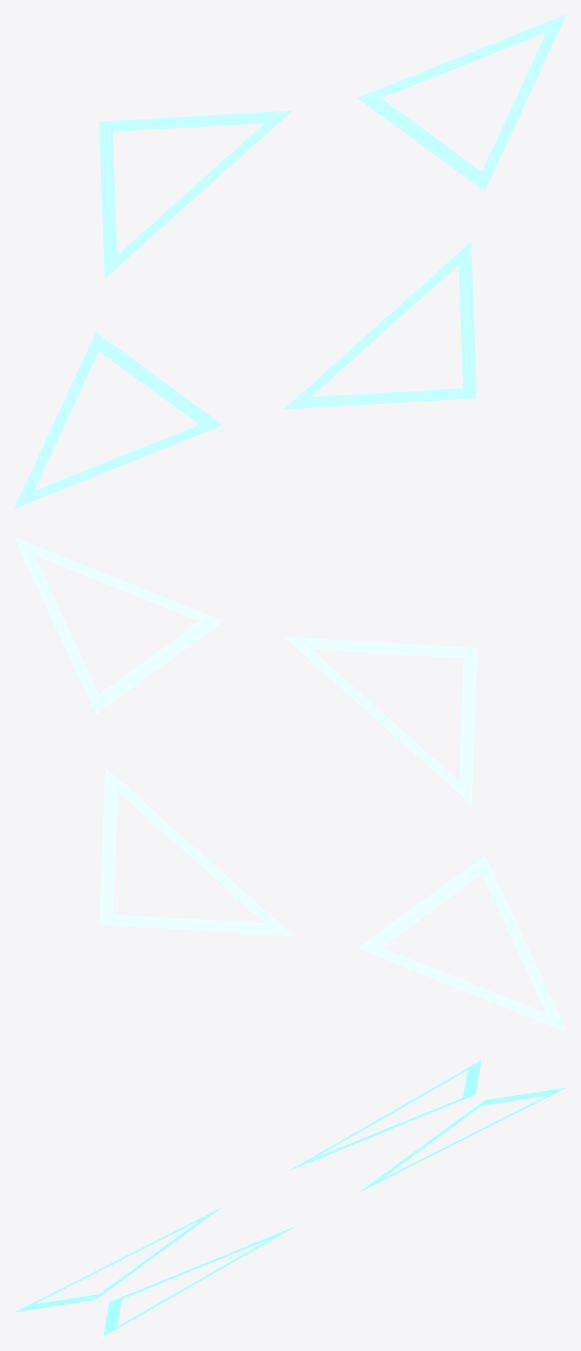
File: Rune_Glow_12.fbx
3 renders of one model, top to bottom at view 1: azimuth 30°, elevation 25°; view 2: azimuth 150°, elevation 25°; view 3: azimuth 330°, elevation 25°, orthographic.
Parts seen in each view (by area): view 1: Rune12; view 2: Rune12; view 3: Rune12.
Boxes of the visible parts, left/top/right/bottom form: Rune12: left=14, top=14, right=566, bottom=508; Rune12: left=14, top=537, right=566, bottom=1031; Rune12: left=14, top=1060, right=565, bottom=1336.
Size of the model in its own units: 0.6585 by 0.4096 by 0.7795.
